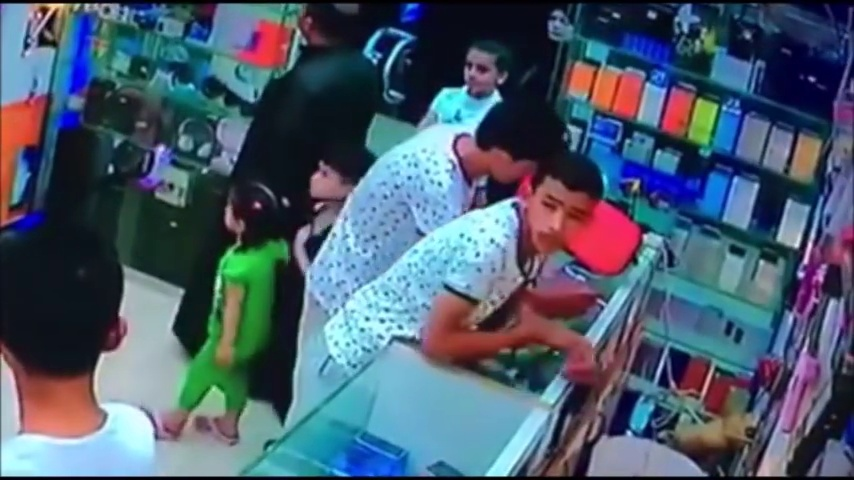face: (536, 184, 576, 250), (464, 50, 498, 93), (545, 8, 576, 40)
